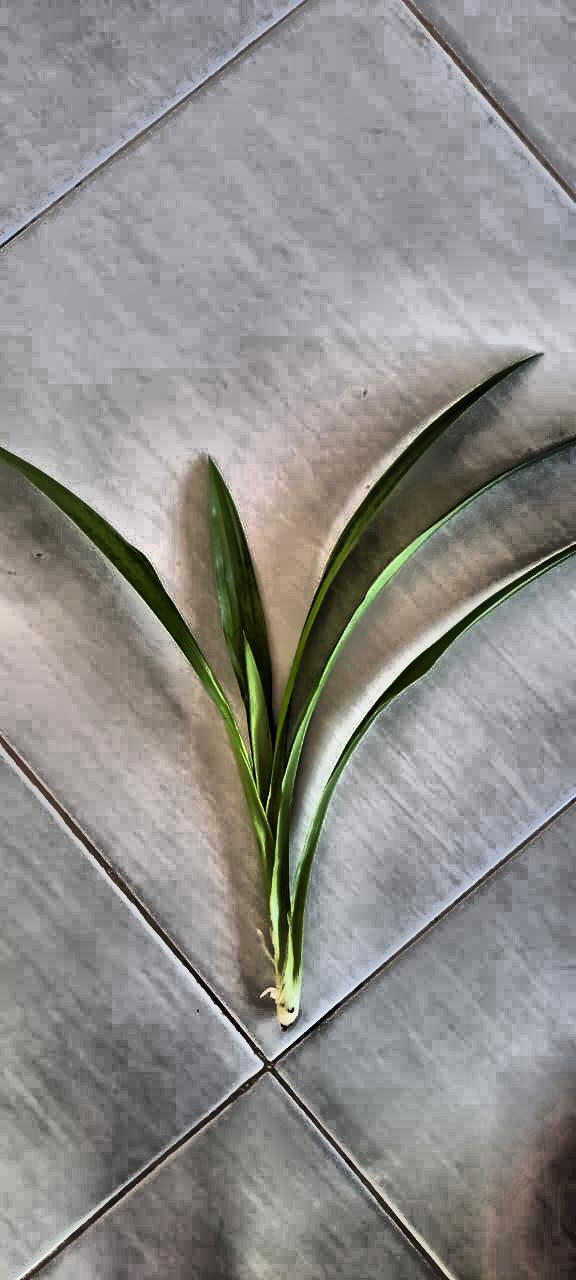daun pandan: (0, 357, 575, 1028)
